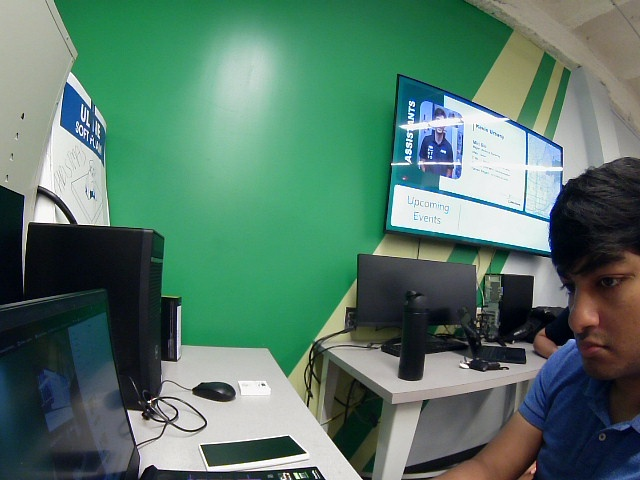bottle: (393, 277, 441, 386)
